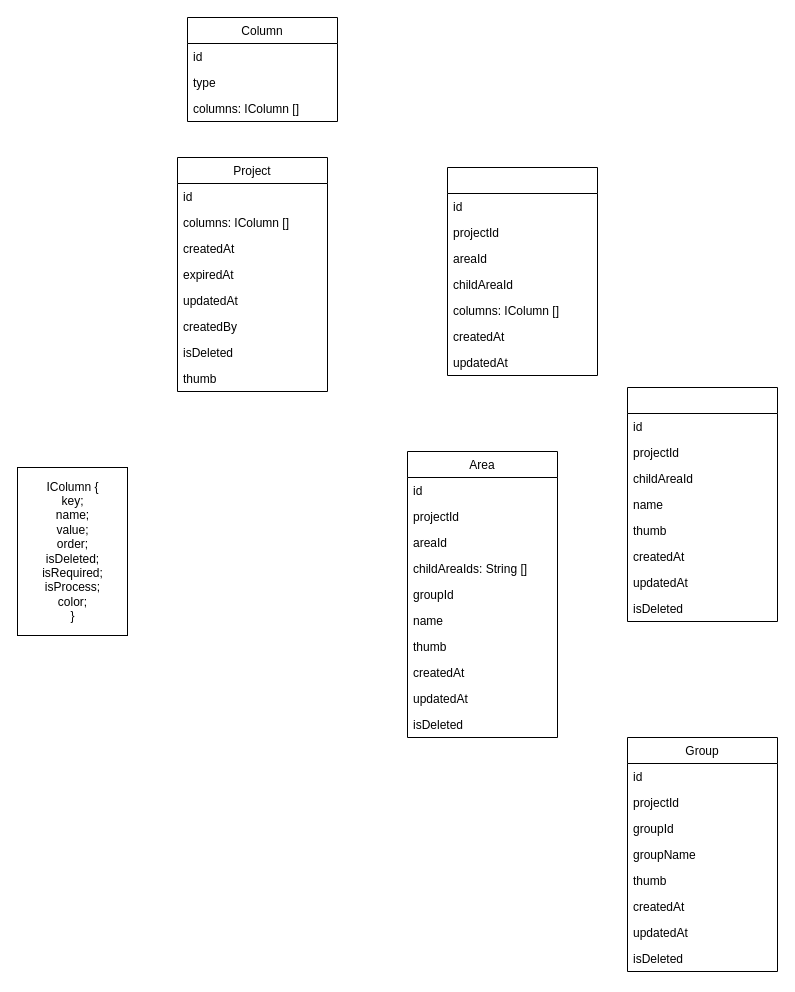
This 795x992 diagram has some shape labels left out. The shapes that lost their labels are listed below. From the top down, each one's box as (x1, y1, x2, y2) in pixels, then its label:
(446, 166, 598, 376): Product
(626, 386, 778, 622): AreaChild
